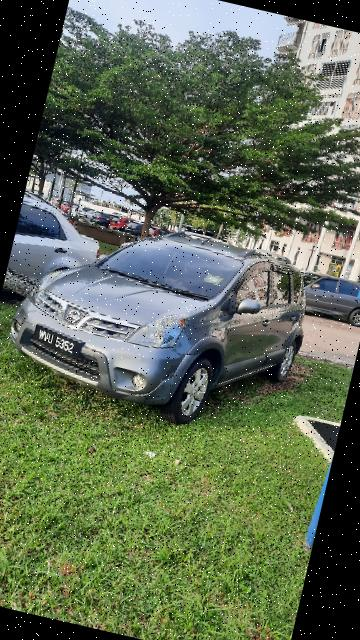License_Plate: (28, 322, 94, 366)
car: (6, 198, 325, 445), (1, 187, 126, 326), (284, 261, 360, 330)
